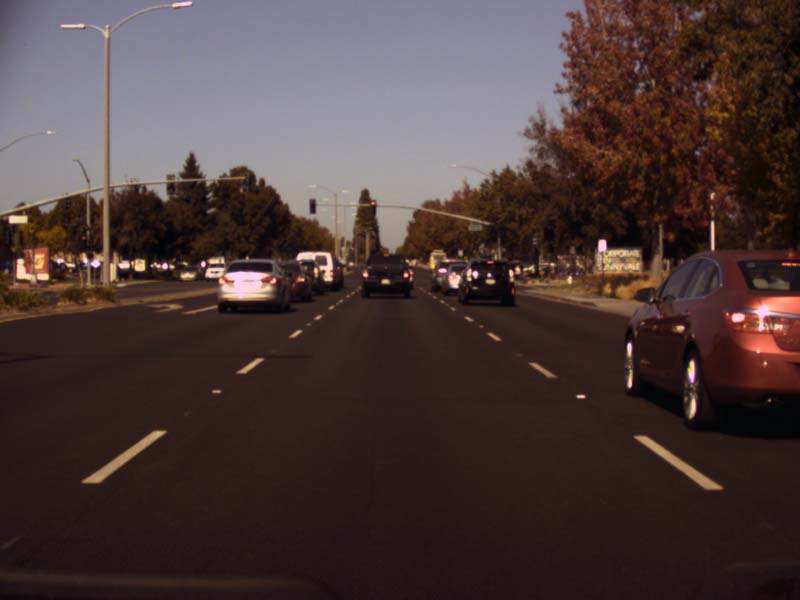Red: (369, 200, 375, 213)
Yellow: (81, 230, 87, 245)
